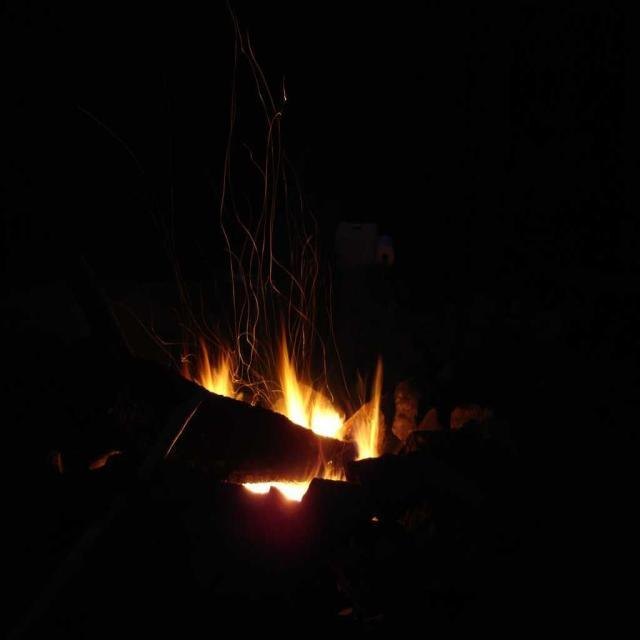Fire: (196, 368, 398, 466)
